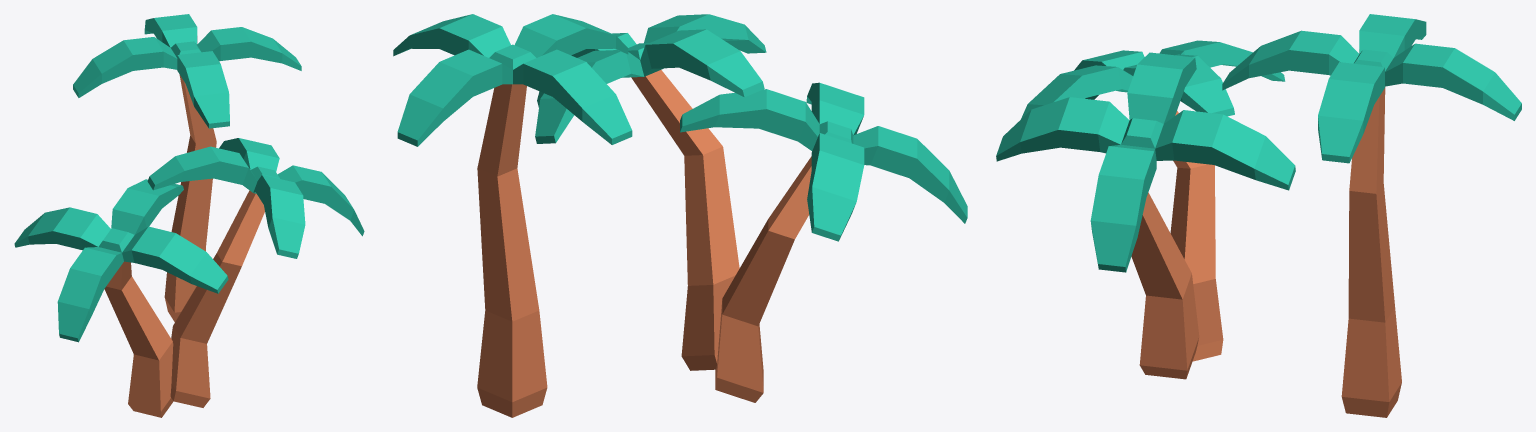
File: Palms 1.fbx
3 views of the same model, side by side, from view 1: azimuth 30°, elevation 25°; view 2: azimuth 150°, elevation 25°; view 3: azimuth 270°, elevation 25° (orthographic). The views are drawn at different scales.
Parts seen in each view (by area): view 1: tree_palmShort (×2), tree_palmTall; view 2: tree_palmShort (×2), tree_palmTall; view 3: tree_palmShort (×2), tree_palmTall.
Boxes of the visible parts, bbox=[...] form: tree_palmShort (×2): bbox=[14, 138, 364, 417]; tree_palmTall: bbox=[73, 14, 301, 321]; tree_palmShort (×2): bbox=[535, 14, 967, 402]; tree_palmTall: bbox=[393, 14, 632, 417]; tree_palmShort (×2): bbox=[996, 40, 1295, 379]; tree_palmTall: bbox=[1222, 14, 1521, 417].
Size of the model in its own units: 17.4 by 14.4 by 18.06.
